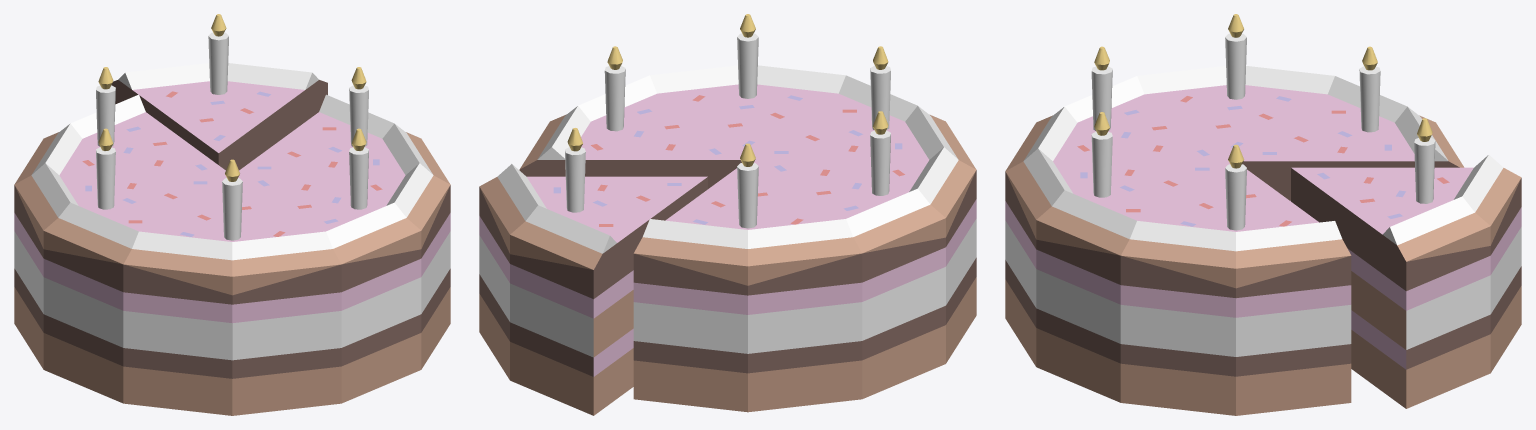
The model's file is cake.glb.
The picture shows the model from 3 angles, left to right: view 1: azimuth 30°, elevation 25°; view 2: azimuth 150°, elevation 25°; view 3: azimuth 270°, elevation 25°; orthographic projection. The views are drawn at different scales.
Parts seen in each view (by area): view 1: slice.004, slice.003, slice.005, slice.001, slice, slice.002; view 2: slice, slice.001, slice.005, slice.002, slice.003, slice.004; view 3: slice.002, slice.001, slice.003, slice, slice.005, slice.004.
Part boxes in pixels (x1,y1,x2,y2): slice.004: [123, 159, 341, 415]; slice.003: [238, 128, 450, 403]; slice.005: [14, 128, 226, 403]; slice.001: [111, 14, 327, 170]; slice: [14, 67, 225, 184]; slice.002: [239, 67, 450, 184]; slice: [633, 143, 862, 412]; slice.001: [479, 128, 707, 415]; slice.005: [754, 111, 976, 398]; slice.002: [519, 46, 741, 188]; slice.003: [650, 14, 845, 154]; slice.004: [755, 46, 976, 169]; slice.002: [1120, 144, 1351, 415]; slice.001: [1291, 118, 1521, 408]; slice.003: [1005, 112, 1229, 402]; slice: [1242, 46, 1464, 201]; slice.005: [1137, 14, 1334, 155]; slice.004: [1005, 46, 1228, 170].
Size of the model in its own units: 0.6392 by 0.3639 by 0.7151.
